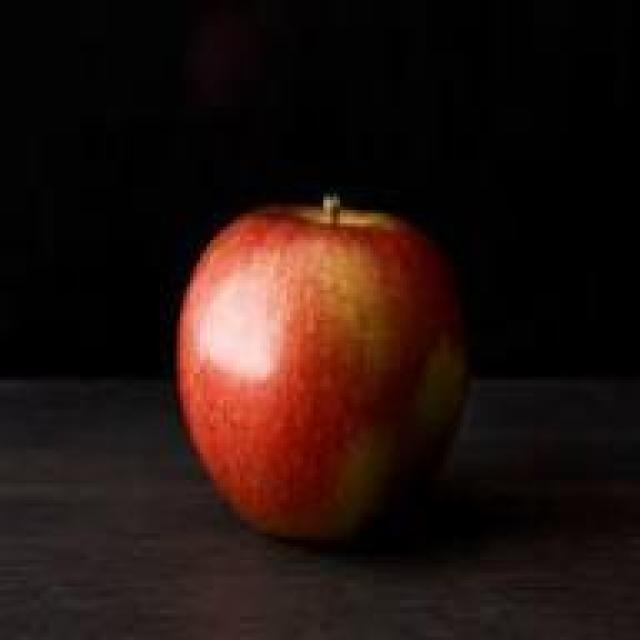apple: (170, 203, 453, 547)
